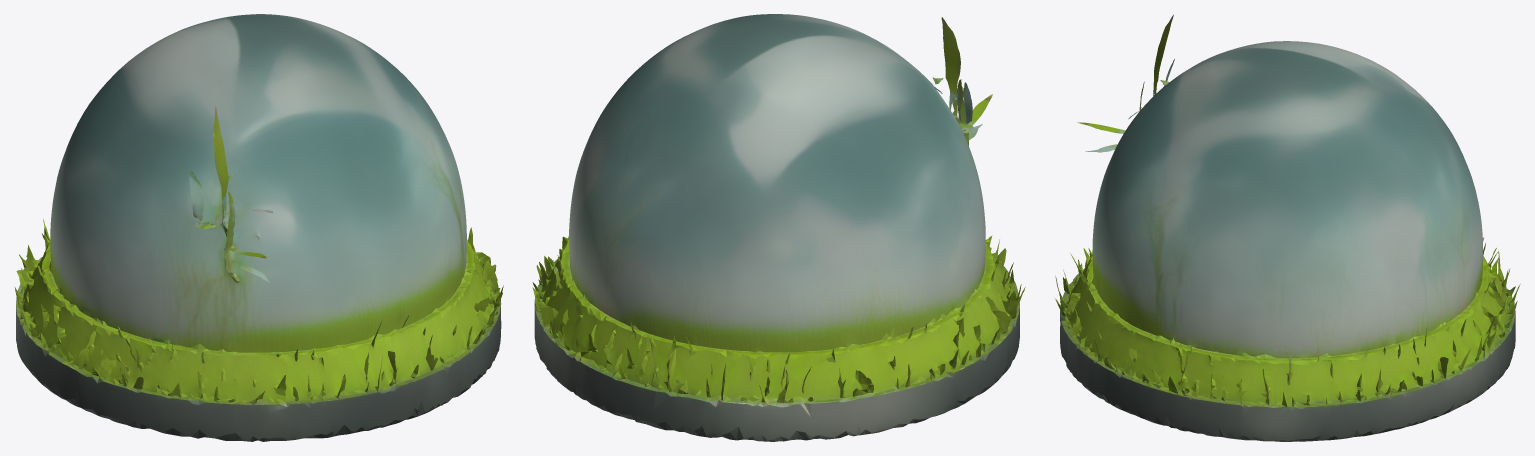
3 views of the same model, side by side, from view 1: azimuth 30°, elevation 25°; view 2: azimuth 150°, elevation 25°; view 3: azimuth 270°, elevation 25° (orthographic). The views are drawn at different scales.
Visible parts, largest first — view 1: SurpriseRaid; view 2: SurpriseRaid; view 3: SurpriseRaid.
Part boxes in pixels (box(x1,y1,x2,y2)): SurpriseRaid: box(15, 14, 503, 441); SurpriseRaid: box(532, 14, 1025, 441); SurpriseRaid: box(1054, 14, 1520, 441).
Bounding box in the file's own units: 1.86 × 1.29 × 1.88.
1 material, 1 textured.
